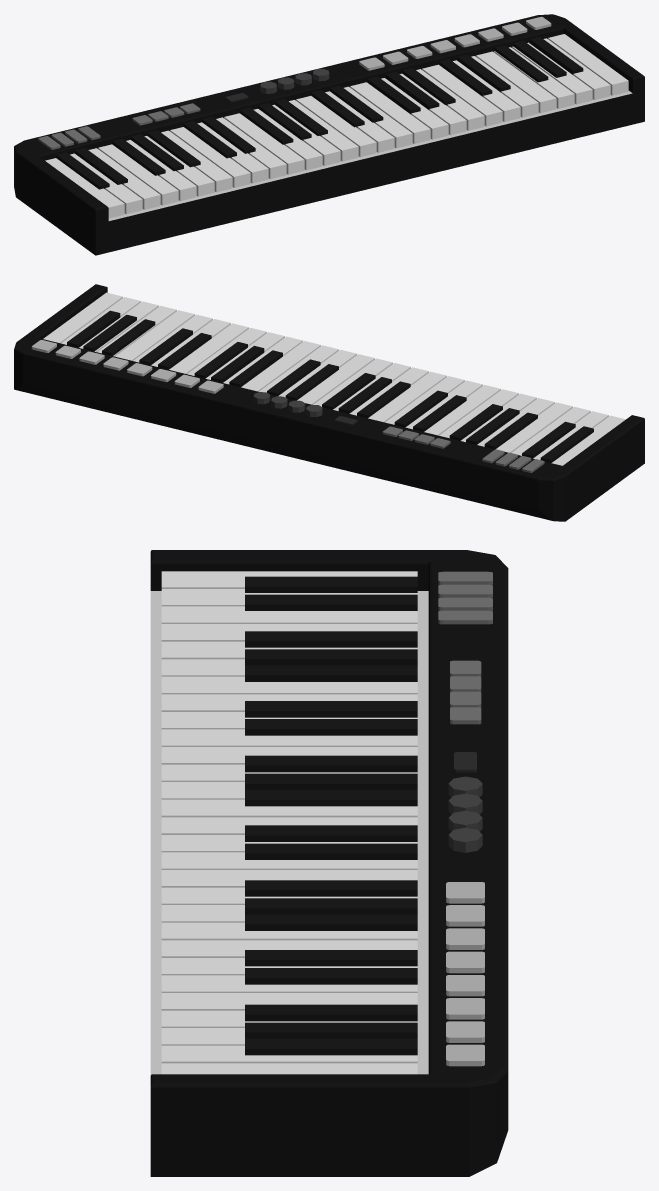
File: Midi Keyboard03.fbx
3 views of the same model, one above another, from view 1: azimuth 30°, elevation 25°; view 2: azimuth 150°, elevation 25°; view 3: azimuth 270°, elevation 25° (orthographic). The views are drawn at different scales.
Visible parts, largest first — view 1: 49keysmidi.004; view 2: 49keysmidi.004; view 3: 49keysmidi.004.
Part boxes in pixels (box(x1,y1,x2,y2)): 49keysmidi.004: box(14, 14, 644, 255); 49keysmidi.004: box(14, 284, 644, 521); 49keysmidi.004: box(150, 550, 508, 1176).
Bounding box in the file's own units: 70.91 × 6.34 × 20.
